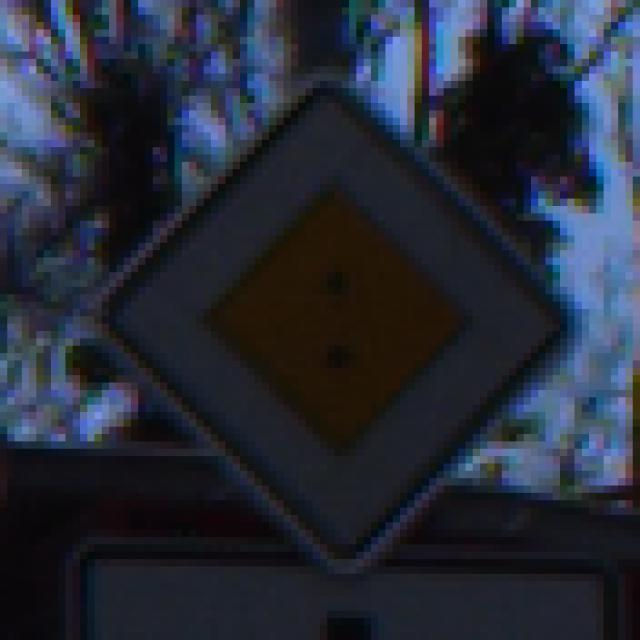Main Road: (59, 53, 590, 590)
